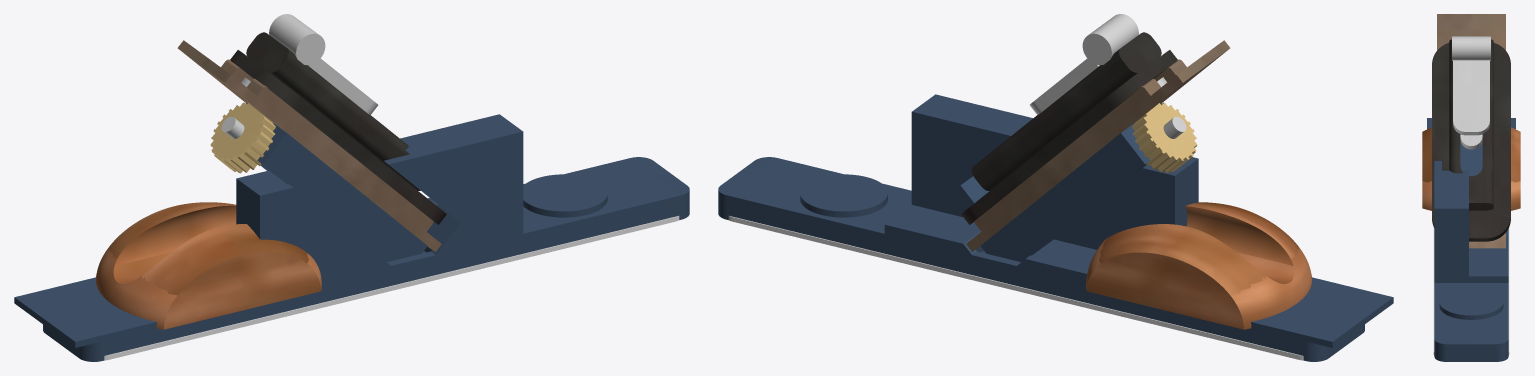
The model's file is Handtools_Hand_plane__0021.glb.
3 views of the same model, side by side, from view 1: azimuth 30°, elevation 25°; view 2: azimuth 150°, elevation 25°; view 3: azimuth 270°, elevation 25° (orthographic). The views are drawn at different scales.
Visible parts, largest first — view 1: plane_body::casting, palm_rest::hump, lever_cap::cap, plane_body::frog, cutting_iron::iron, plane_body::palm_heel_boss, plane_body::sole_edge, cam_lever::cam, depth_wheel::wheel; view 2: plane_body::casting, palm_rest::hump, lever_cap::cap, plane_body::frog, cutting_iron::iron, plane_body::palm_heel_boss, plane_body::sole_edge, cam_lever::cam, depth_wheel::wheel; view 3: plane_body::casting, lever_cap::cap, cam_lever::cam, cutting_iron::iron, palm_rest::hump, plane_body::frog, plane_body::sole_edge, lateral_lever::lever, plane_body::palm_heel_boss.
Part boxes in pixels (box(x1,y1,x2,y2)): plane_body::casting: box(43, 114, 689, 361); palm_rest::hump: box(96, 202, 321, 329); lever_cap::cap: box(230, 32, 446, 224); plane_body::frog: box(246, 103, 427, 262); cutting_iron::iron: box(177, 40, 441, 251); plane_body::palm_heel_boss: box(14, 277, 156, 347); plane_body::sole_edge: box(104, 216, 679, 360); cam_lever::cam: box(269, 14, 377, 114); depth_wheel::wheel: box(210, 102, 275, 173); plane_body::casting: box(718, 94, 1364, 361); palm_rest::hump: box(1086, 202, 1311, 329); lever_cap::cap: box(961, 32, 1177, 224); plane_body::frog: box(980, 103, 1161, 262); cutting_iron::iron: box(966, 40, 1230, 251); plane_body::palm_heel_boss: box(1251, 277, 1393, 347); plane_body::sole_edge: box(728, 216, 1303, 360); cam_lever::cam: box(1030, 14, 1138, 114); depth_wheel::wheel: box(1132, 102, 1197, 173); plane_body::casting: box(1434, 161, 1508, 361); lever_cap::cap: box(1432, 39, 1510, 241); cam_lever::cam: box(1452, 36, 1490, 135); cutting_iron::iron: box(1437, 14, 1505, 248); palm_rest::hump: box(1422, 127, 1520, 210); plane_body::frog: box(1460, 134, 1482, 176); plane_body::sole_edge: box(1433, 227, 1509, 355); lateral_lever::lever: box(1460, 134, 1482, 149); plane_body::palm_heel_boss: box(1427, 118, 1515, 129).
Size of the model in its own units: 0.2139 by 0.0864 by 0.0402.
Materials: 7 (6 with a texture image).
